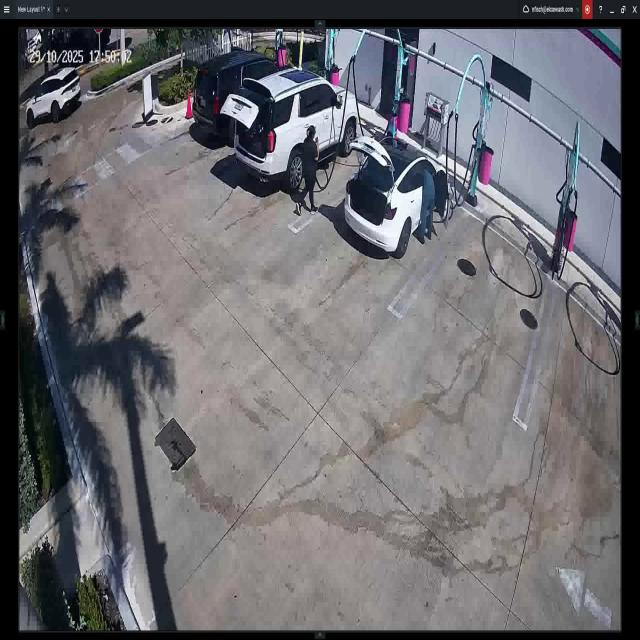Car: (231, 74, 357, 184), (345, 131, 449, 251), (193, 55, 296, 156), (22, 70, 86, 124)
